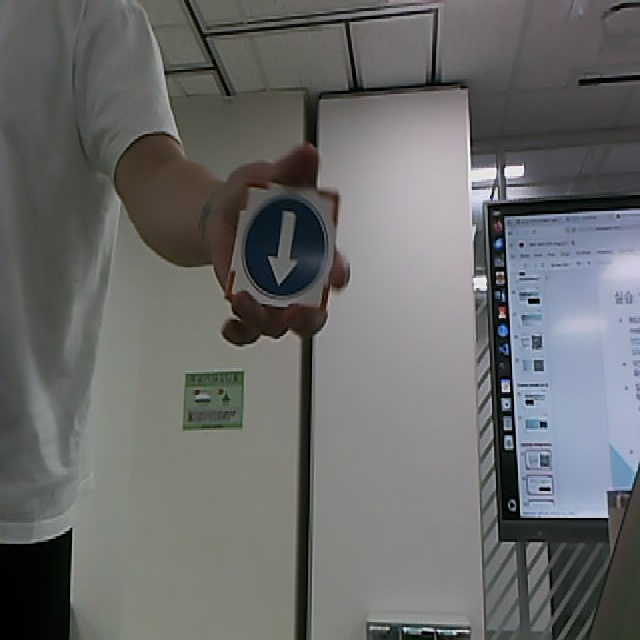straight: (225, 182, 340, 314)
